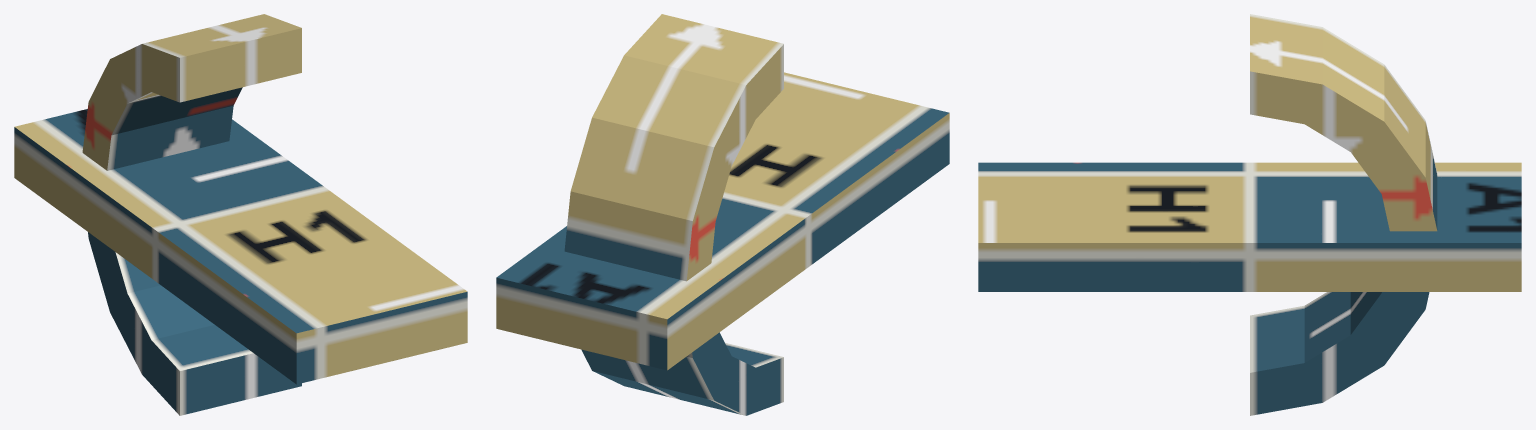
File: PIPE_Bracket.fbx
3 views of the same model, side by side, from view 1: azimuth 30°, elevation 25°; view 2: azimuth 150°, elevation 25°; view 3: azimuth 270°, elevation 25° (orthographic). The views are drawn at different scales.
Parts seen in each view (by area): view 1: PIPE_Bracket; view 2: PIPE_Bracket; view 3: PIPE_Bracket.
Part boxes in pixels (box(x1,y1,x2,y2)): PIPE_Bracket: box(14, 14, 467, 415); PIPE_Bracket: box(496, 14, 949, 415); PIPE_Bracket: box(978, 14, 1521, 415).
Bounding box in the file's own units: 14 × 28 × 40.
1 material, 1 textured.
